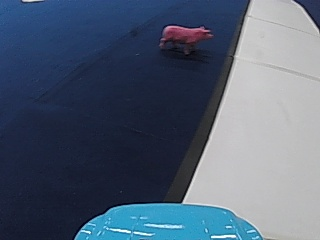pig: (157, 19, 212, 55)
